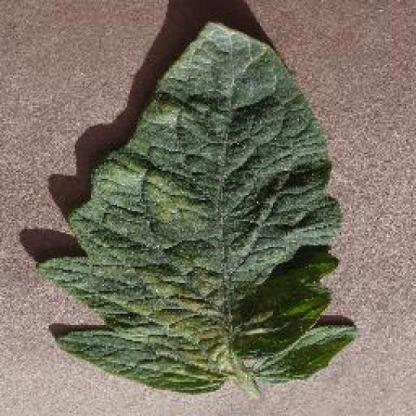Tomato_Spider_Mites: (39, 22, 358, 388)
